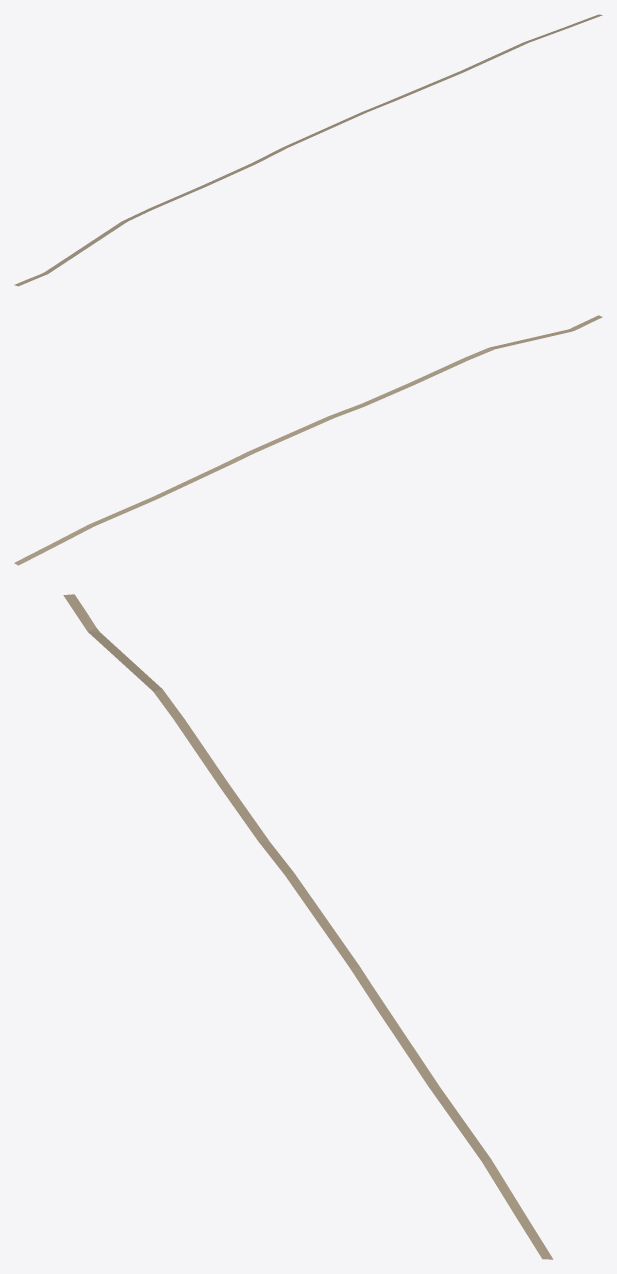
The model's file is farm_10_-2_track.glb.
3 views of the same model, one above another, from view 1: azimuth 30°, elevation 25°; view 2: azimuth 210°, elevation 25°; view 3: azimuth 270°, elevation 25° (orthographic). The views are drawn at different scales.
Parts seen in each view (by area): view 1: geometry_0; view 2: geometry_0; view 3: geometry_0.
Part boxes in pixels (left/top/right/bottom): geometry_0: left=14, top=14, right=602, bottom=286; geometry_0: left=14, top=315, right=602, bottom=565; geometry_0: left=63, top=594, right=553, bottom=1259.
Bounding box in the file's own units: 452 × 12.52 × 136.
